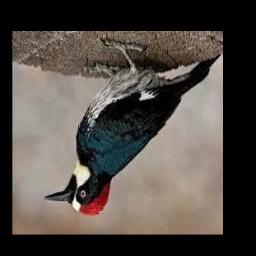Woodpecker: (44, 41, 221, 216)
